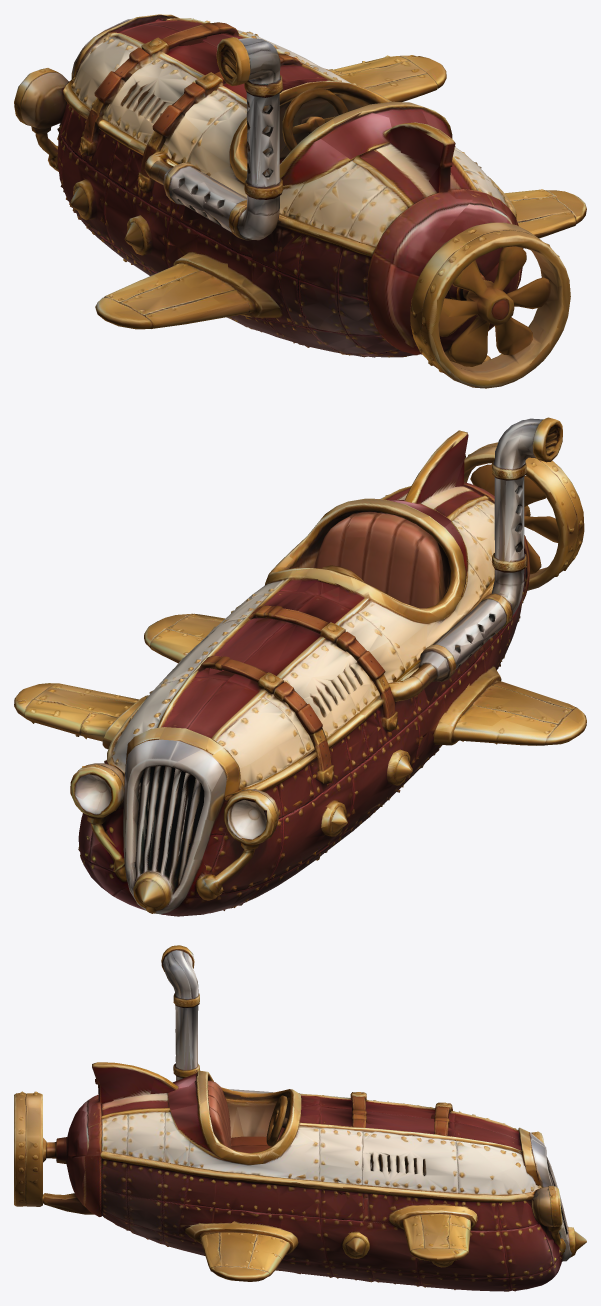
3 views of the same model, one above another, from view 1: azimuth 30°, elevation 25°; view 2: azimuth 150°, elevation 25°; view 3: azimuth 270°, elevation 25° (orthographic). The views are drawn at different scales.
Visible parts, largest first — view 1: LOD0; view 2: LOD0; view 3: LOD0.
Boxes of the visible parts, x1,y1,x2,y2 form: LOD0: (14, 14, 586, 388); LOD0: (14, 417, 586, 916); LOD0: (14, 945, 586, 1291).
Size of what is drawn, in the model's own units: 2.67 by 2.14 by 4.
